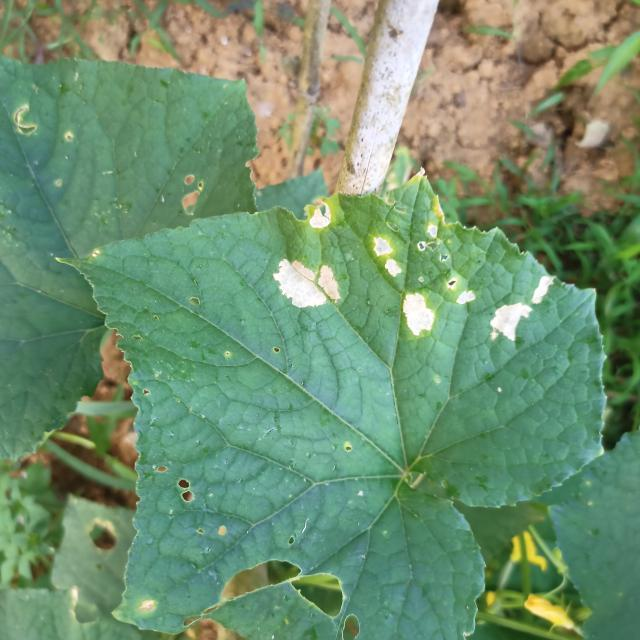disease_cucumber: (365, 222, 480, 339), (265, 252, 347, 320), (485, 275, 558, 347), (304, 200, 341, 237)
